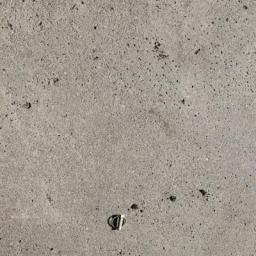FOD: (107, 212, 130, 235)
